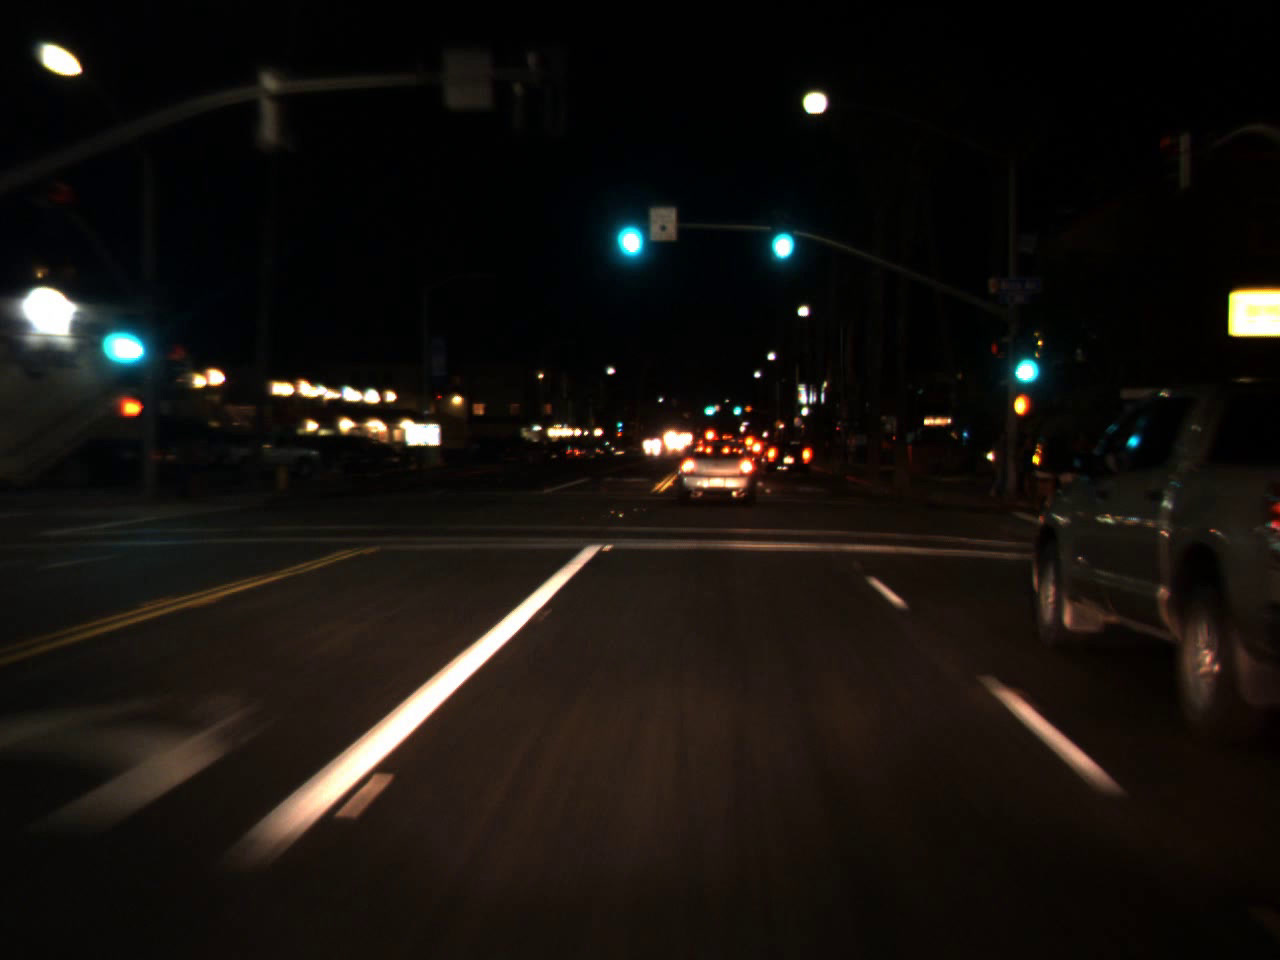go: (97, 296, 149, 374), (606, 187, 649, 268), (1003, 327, 1044, 393), (761, 198, 798, 270), (700, 398, 716, 416), (731, 402, 741, 414)
